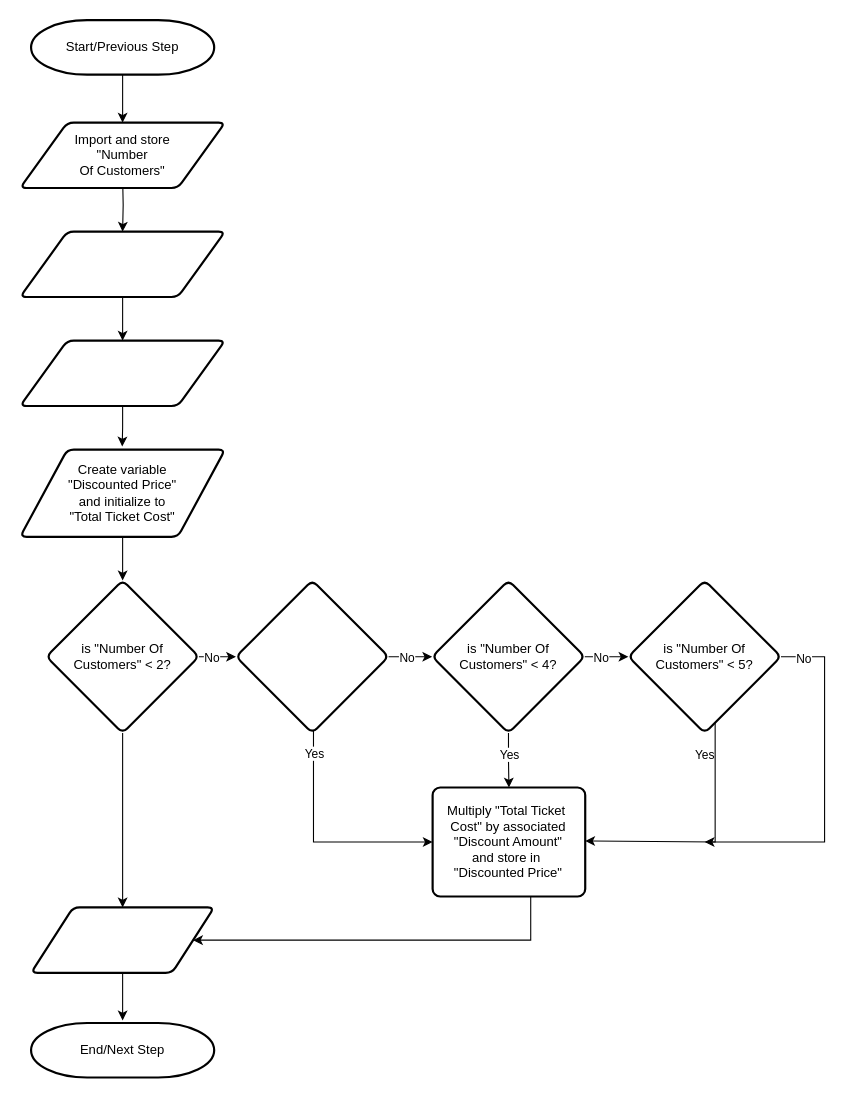
Some shapes in this 852 by 1097 pixel diagram are drawn without their labels. The centre of each missing label's shape, as x and y in pixels:
Import and store "Discount Amounts": the point at 122,373
Import and store "Total Ticket Cost": the point at 122,264
is "Number Of Customers" < 3?: the point at 311,656
Output "Discounted Price": the point at 122,939
